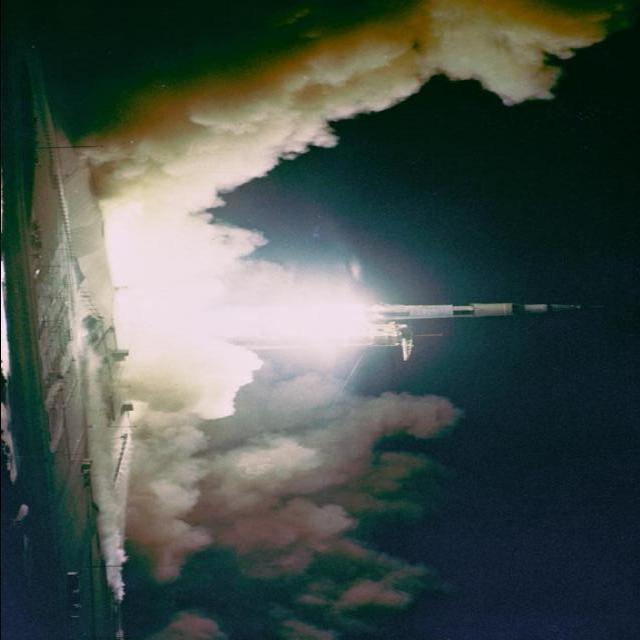missile: (354, 299, 582, 324)
